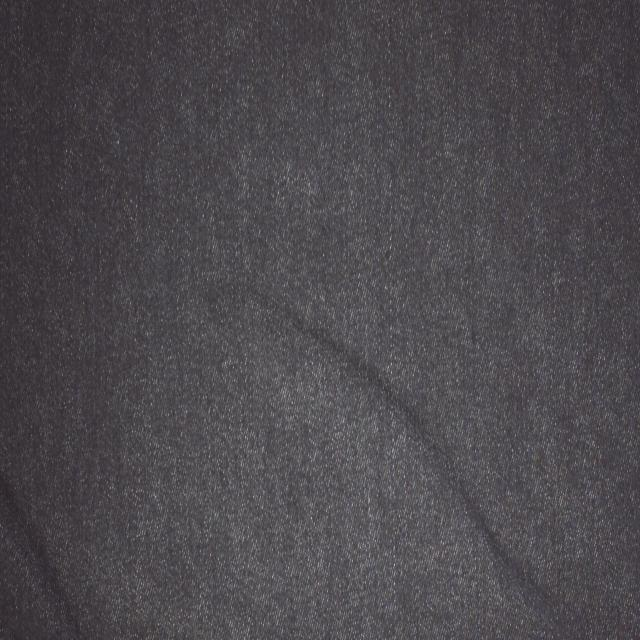broken_yarn: (201, 261, 551, 602)
